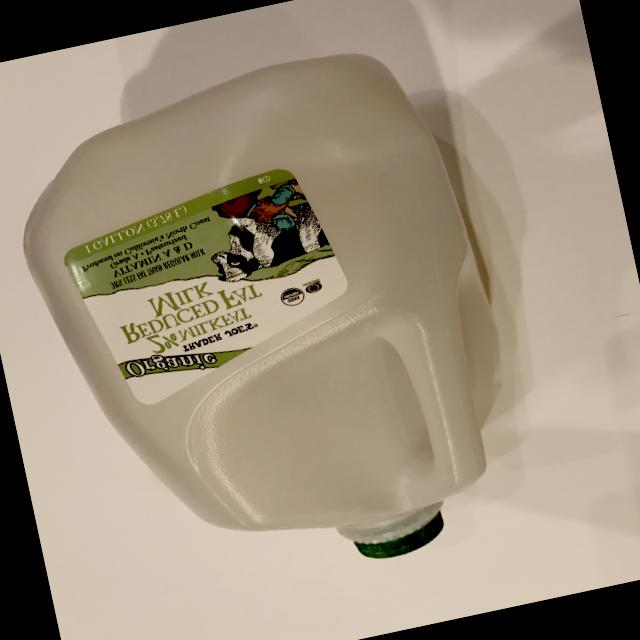Plastic: (0, 15, 560, 627)
